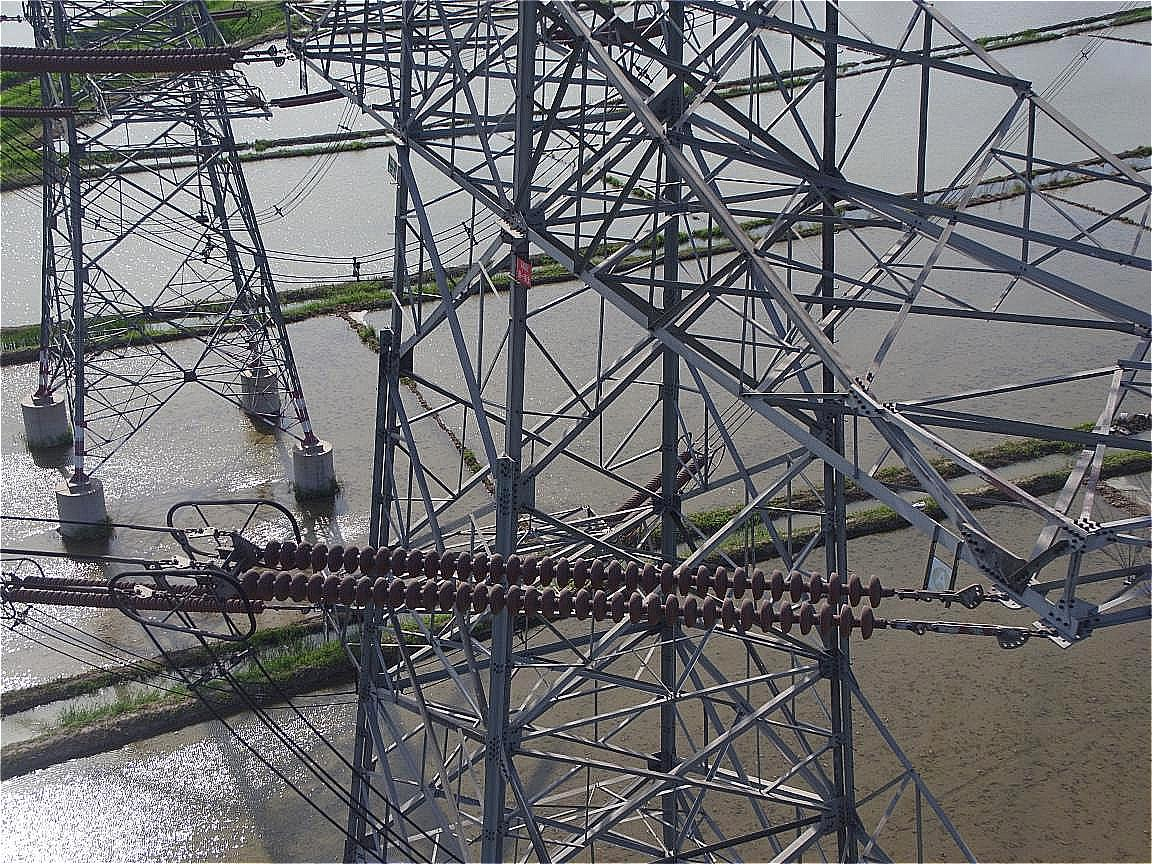insultor1: (222, 520, 893, 642), (1, 31, 251, 85)
